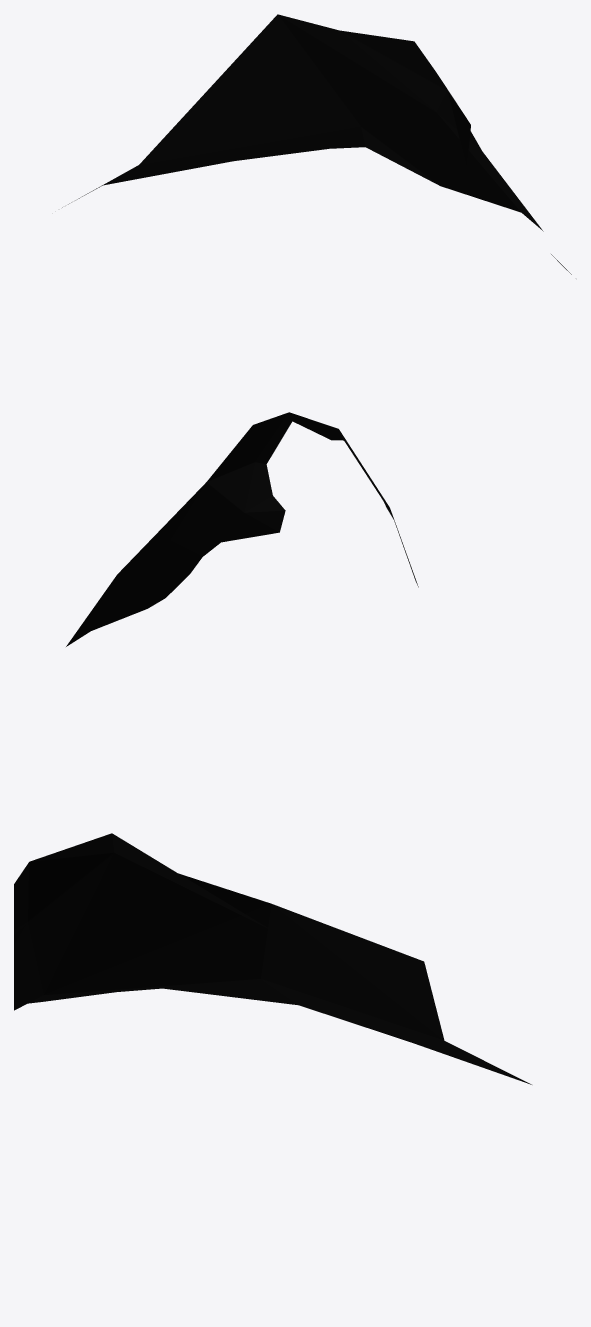
3 views of the same model, one above another, from view 1: azimuth 30°, elevation 25°; view 2: azimuth 150°, elevation 25°; view 3: azimuth 270°, elevation 25° (orthographic). The views are drawn at different scales.
Size of the model in its own units: 0.8687 by 0.4237 by 0.6376.
1 material, 1 textured.
